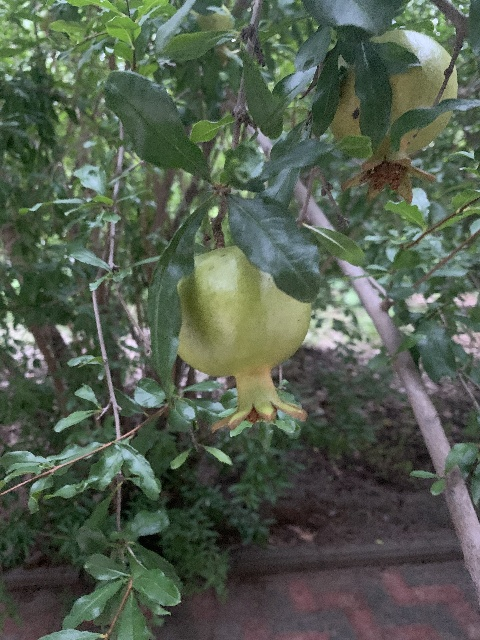mid-growth: (175, 245, 312, 432), (332, 28, 452, 206)
